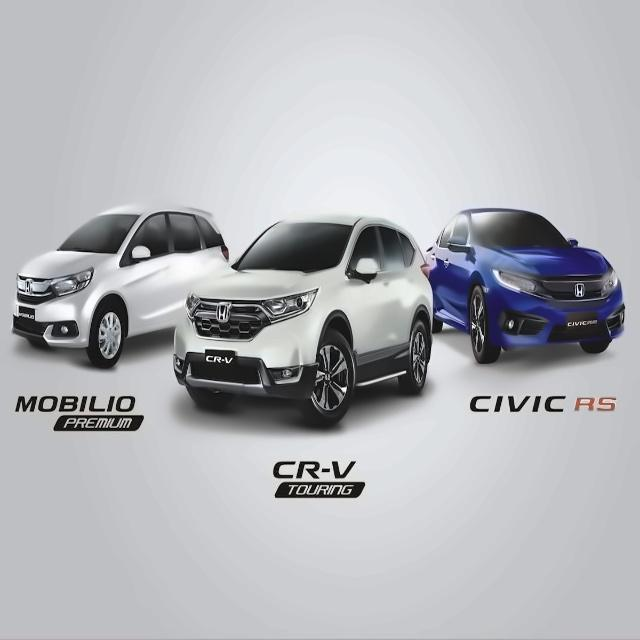Car hood: (477, 240, 619, 282), (187, 271, 325, 303), (16, 248, 110, 282)
Driver-s door - -F-R-: (443, 207, 472, 342)
Fender - -F-L-: (318, 255, 358, 351)
Fender - -R-L-: (403, 255, 435, 344)
Front bumper: (172, 312, 324, 401), (485, 283, 627, 353), (8, 295, 94, 347)
Headlight - -L-: (259, 288, 317, 322), (47, 267, 94, 298)
Headlight - -R-: (490, 266, 552, 298)
Passenger-s door - -F-L-: (345, 215, 396, 400), (122, 206, 179, 342)
Passenger-s door - -R-L-: (375, 206, 425, 393), (161, 205, 208, 329)
Side bumper - -L-: (340, 352, 418, 406), (124, 307, 187, 358), (597, 266, 621, 301)
Side bumper - -R-: (437, 301, 477, 337)
Side mirror - -L-: (347, 259, 381, 284), (125, 245, 152, 265)
Side mirror - -R-: (443, 241, 475, 262)
